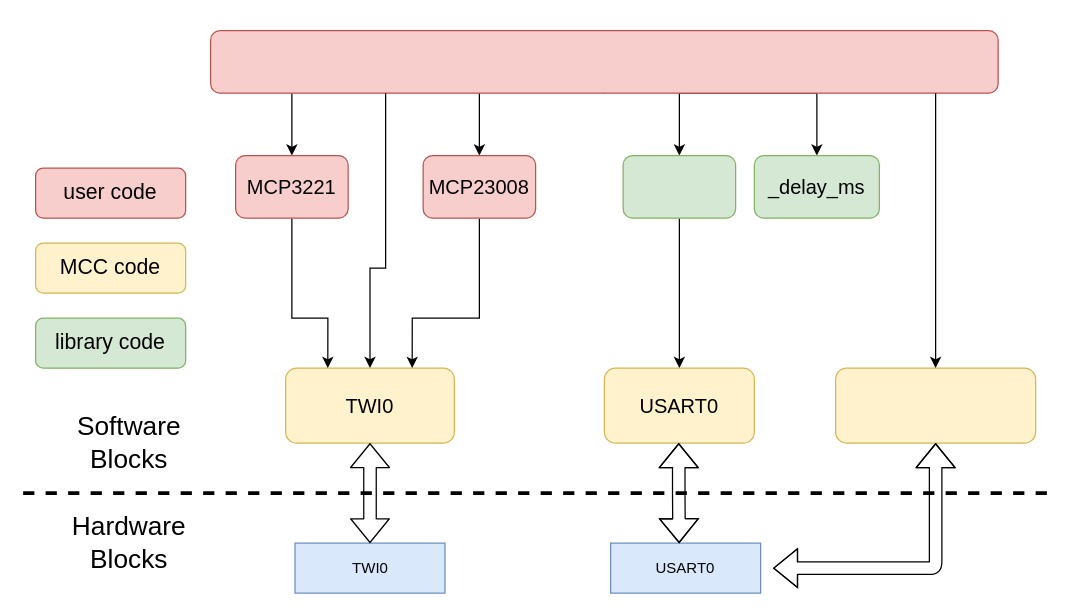
The diagram is 1073 pixels wide and 615 high, and some of its shapes have lost their labels. Here are the shapes that lost their labels. From the top down, the box of each, then its label:
(209, 29, 998, 93): main app
(622, 154, 736, 218): printf
(834, 367, 1036, 443): SYSTEM_Initialize
